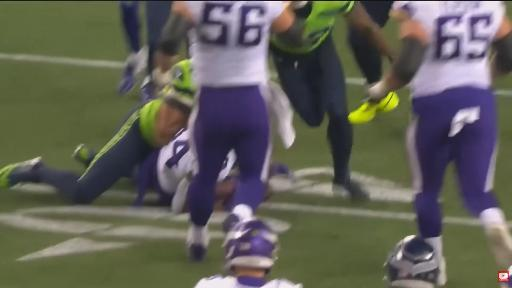Helmet: (224, 218, 277, 272), (385, 236, 439, 287)
Jersey: (393, 1, 505, 97), (184, 1, 285, 87), (271, 1, 354, 54), (157, 130, 196, 194), (165, 58, 197, 109), (138, 99, 163, 147), (195, 276, 247, 287)
Player: (367, 2, 511, 285), (160, 1, 303, 261), (0, 60, 195, 203), (271, 1, 392, 200), (195, 219, 302, 287), (127, 129, 195, 213), (119, 1, 171, 102), (141, 1, 172, 101), (385, 236, 439, 287), (119, 1, 146, 94), (348, 26, 382, 85), (501, 267, 511, 287)
